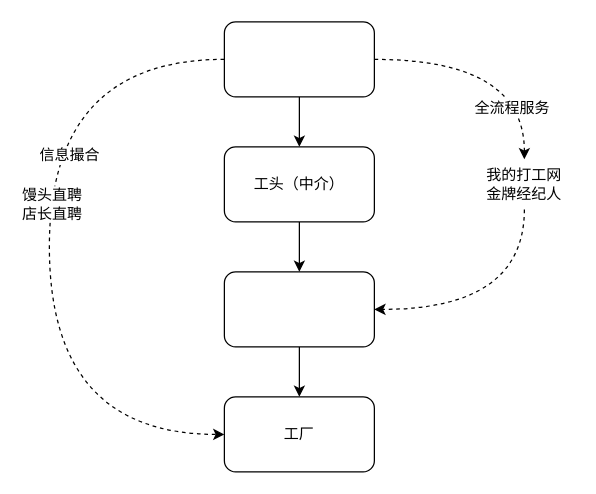
This 596x494 diagram has some shape labels left out. The shapes that lost their labels are listed below. From the top down, each one's centre as x and y in pixels, then its label:
pixel 298 59: 工人
pixel 298 309: 劳务公司
